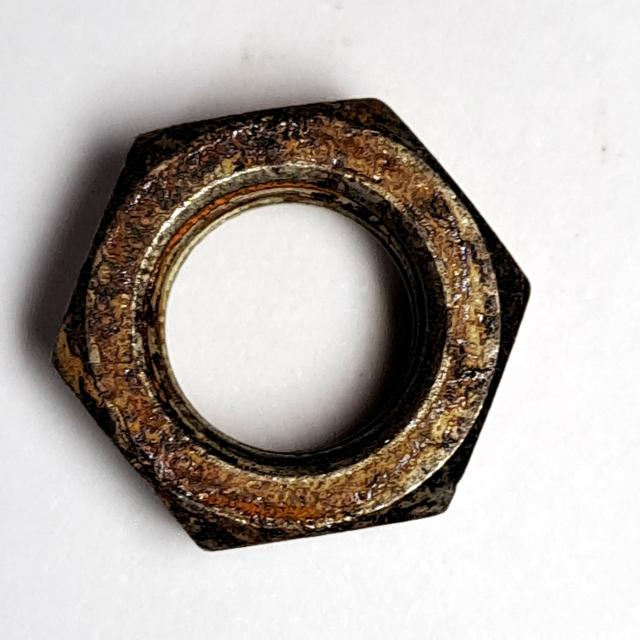Rust: (42, 85, 544, 567)
